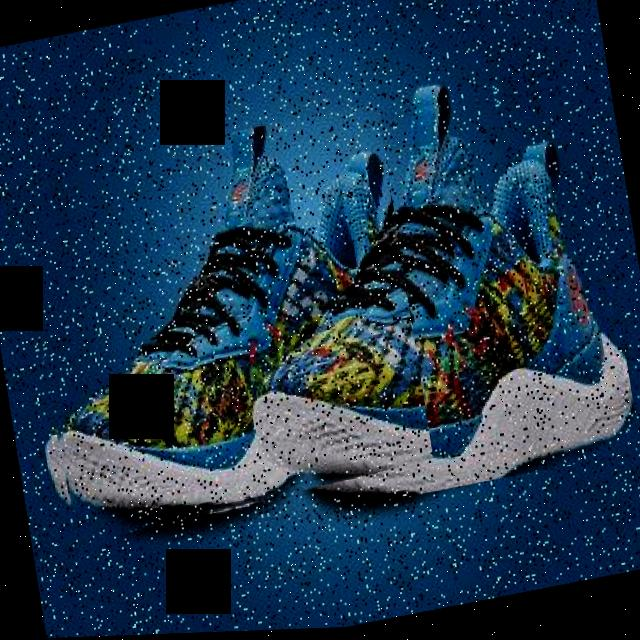shoe: (198, 68, 640, 529), (4, 105, 436, 550)
